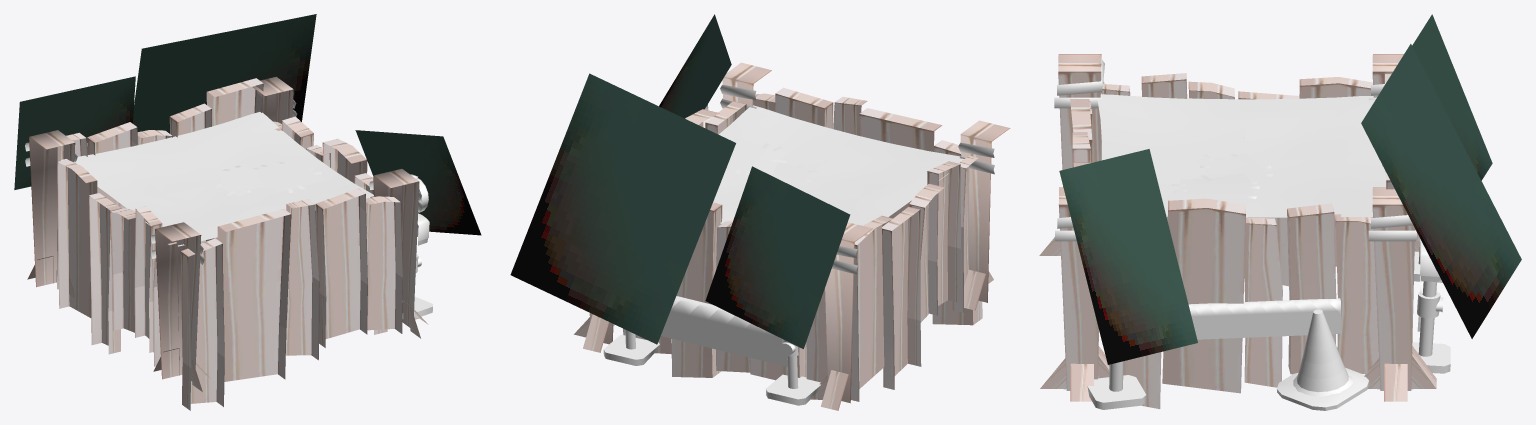
The model's file is Construction3x3 & 4x4.fbx.
3 views of the same model, side by side, from view 1: azimuth 30°, elevation 25°; view 2: azimuth 150°, elevation 25°; view 3: azimuth 270°, elevation 25° (orthographic). The views are drawn at different scales.
Parts seen in each view (by area): view 1: ConstructionRoof2x003, ConstructionWall_NW1, ConstructionWall_NW2, glowingHaloPlane (1), ConstructionWall_NE2, glowingHaloPlane (3), ConstructionWall_NE1, glowingHaloPlane (2), ConstructionPost003, ConstructionPost004, ConstructionPost, ConstructionWall_SE1 (+5 smaller); view 2: glowingHaloPlane (1), glowingHaloPlane (2), ConstructionRoof2x003, ConstructionWall_NE2, ConstructionWall_NE1, ConstructionPost004, ConstructionPost003, ConstructionBarrierRed, ConstructionWall_SE1, ConstructionWall_NW2, glowingHaloPlane (3), ConstructionWall_SE2 (+6 smaller); view 3: ConstructionRoof2x003, glowingHaloPlane (1), glowingHaloPlane (3), ConstructionWall_SW2, ConstructionWall_SW1, ConstructionPost005, ConstructionPost, ConstructionBarrierYellow, TrafficCone, glowingHaloPlane (2), ConstructionPost003, ConstructionWall_NE2 (+6 smaller).
Boxes of the visible parts, <box> form: ConstructionRoof2x003: <box>61,112,373,246</box>; ConstructionWall_NW1: <box>285,188,402,360</box>; ConstructionWall_NW2: <box>180,209,291,410</box>; glowingHaloPlane (1): <box>133,14,316,133</box>; ConstructionWall_NE2: <box>57,159,121,354</box>; glowingHaloPlane (3): <box>355,130,481,235</box>; ConstructionWall_NE1: <box>109,206,179,366</box>; glowingHaloPlane (2): <box>14,76,135,189</box>; ConstructionPost003: <box>151,222,210,391</box>; ConstructionPost004: <box>25,130,77,298</box>; ConstructionPost: <box>369,169,428,338</box>; ConstructionWall_SE1: <box>169,78,263,243</box>; glowingHaloPlane (1): <box>510,73,735,344</box>; glowingHaloPlane (2): <box>705,166,850,348</box>; ConstructionRoof2x003: <box>713,105,963,225</box>; ConstructionWall_NE2: <box>851,206,921,401</box>; ConstructionWall_NE1: <box>909,155,978,322</box>; ConstructionPost004: <box>816,222,872,410</box>; ConstructionPost003: <box>958,120,1010,310</box>; ConstructionBarrierRed: <box>661,296,787,366</box>; ConstructionWall_SE1: <box>623,202,722,377</box>; ConstructionWall_NW2: <box>859,108,982,325</box>; glowingHaloPlane (3): <box>659,14,731,118</box>; ConstructionWall_SE2: <box>716,221,827,399</box>; ConstructionRoof2x003: <box>1097,94,1386,217</box>; glowingHaloPlane (1): <box>1361,44,1521,338</box>; glowingHaloPlane (3): <box>1059,149,1197,364</box>; ConstructionWall_SW2: <box>1244,203,1378,387</box>; ConstructionWall_SW1: <box>1109,198,1245,409</box>; ConstructionPost005: <box>1364,187,1436,401</box>; ConstructionPost: <box>1040,187,1109,401</box>; ConstructionBarrierYellow: <box>1188,298,1340,339</box>; TrafficCone: <box>1277,309,1369,410</box>; glowingHaloPlane (2): <box>1412,14,1492,180</box>; ConstructionPost003: <box>1039,54,1104,255</box>; ConstructionWall_NE2: <box>1238,77,1372,286</box>.
Bounding box in the file's own units: 3.25 × 2.41 × 3.28.
